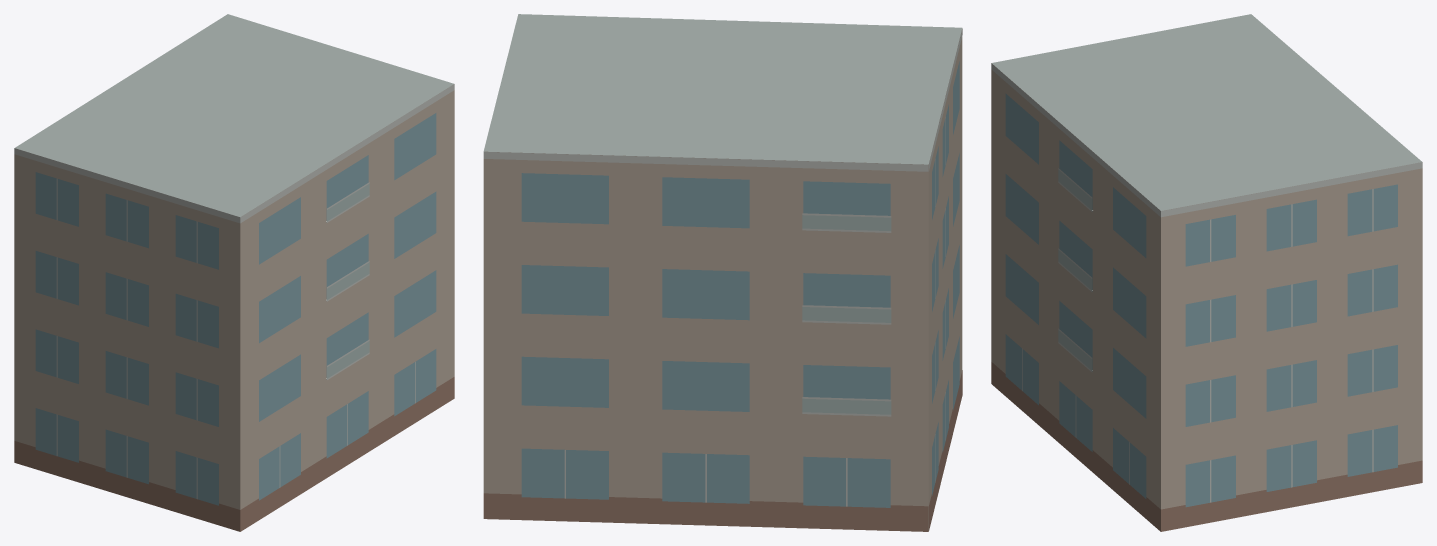
The model's file is survey-upis-32735168.glb.
The picture shows the model from 3 angles, left to right: view 1: azimuth 30°, elevation 25°; view 2: azimuth 150°, elevation 25°; view 3: azimuth 270°, elevation 25°; orthographic projection. The views are drawn at different scales.
Parts seen in each view (by area): view 1: survey-upis-32735168.tmp; view 2: survey-upis-32735168.tmp; view 3: survey-upis-32735168.tmp.
Boxes of the visible parts, bbox=[...] form: survey-upis-32735168.tmp: bbox=[14, 14, 454, 531]; survey-upis-32735168.tmp: bbox=[483, 14, 962, 531]; survey-upis-32735168.tmp: bbox=[991, 14, 1422, 531].
Size of the model in its own units: 16.34 by 12.4 by 15.11.
